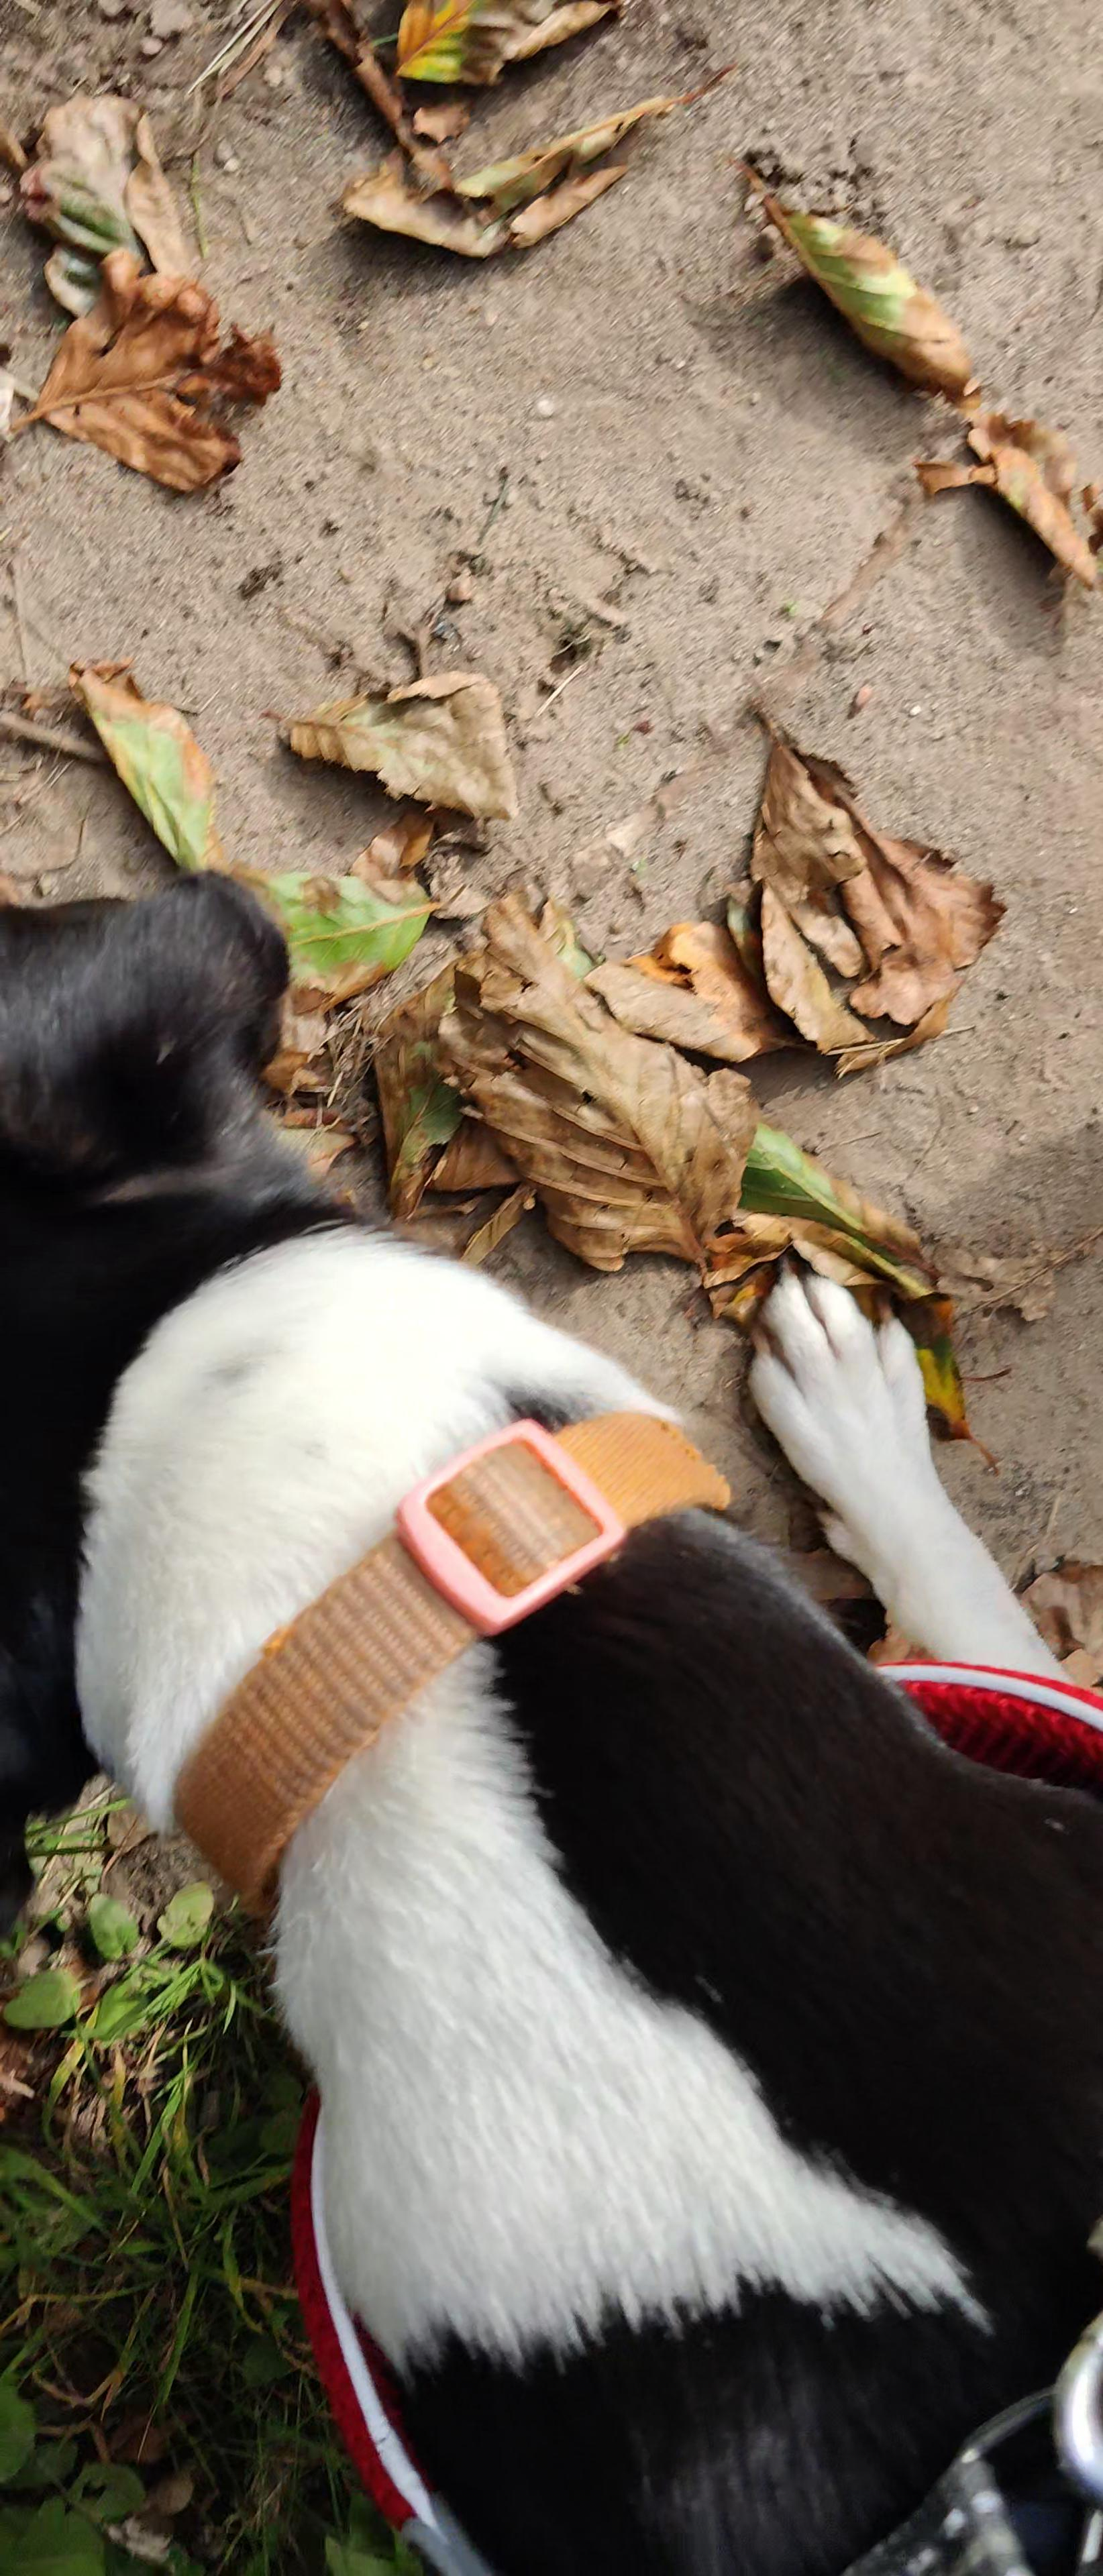Dog: (0, 856, 1103, 2576)
